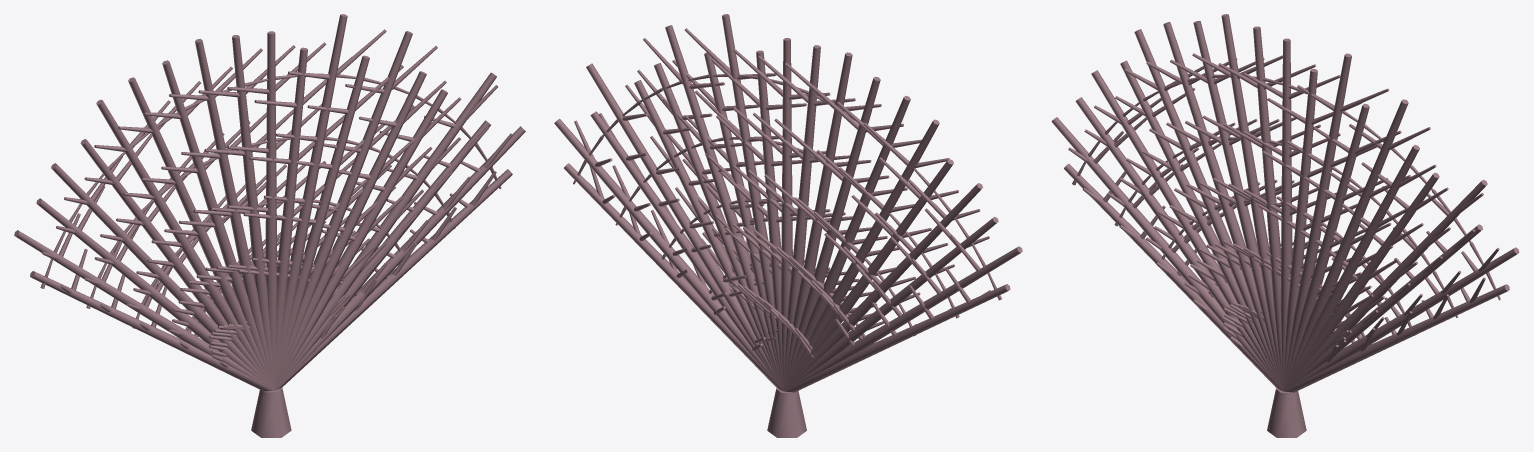
The model's file is coral-fan.glb.
3 renders of one model, left to right at view 1: azimuth 30°, elevation 25°; view 2: azimuth 150°, elevation 25°; view 3: azimuth 330°, elevation 25°, orthographic.
Parts seen in each view (by area): view 1: Original authored part; view 2: Original authored part; view 3: Original authored part.
Part boxes in pixels (x1=…): Original authored part: x1=14, y1=14, x2=525, y2=437; Original authored part: x1=554, y1=14, x2=1022, y2=437; Original authored part: x1=1051, y1=14, x2=1519, y2=437.
Bounding box in the file's own units: 1.46 × 1.14 × 0.1434.
